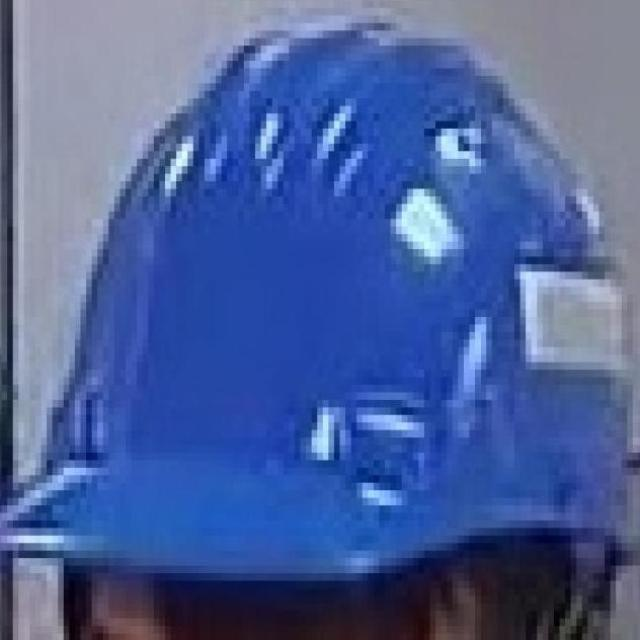blue helmet: (21, 18, 628, 581)
